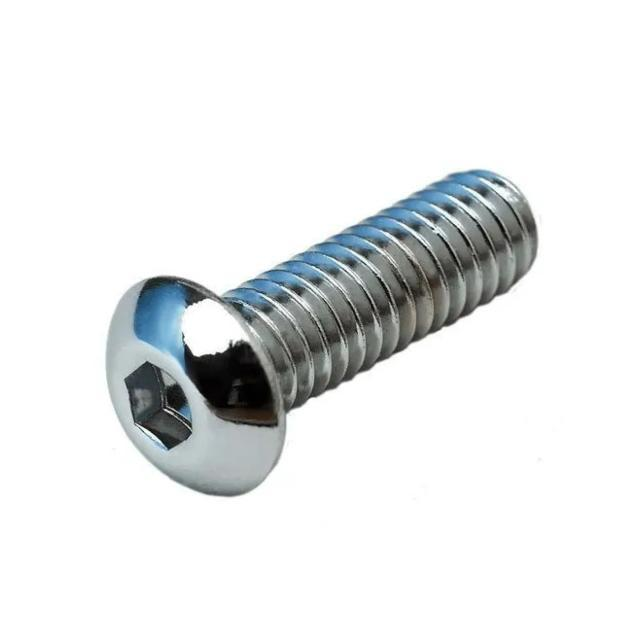allen: (104, 276, 284, 496)
